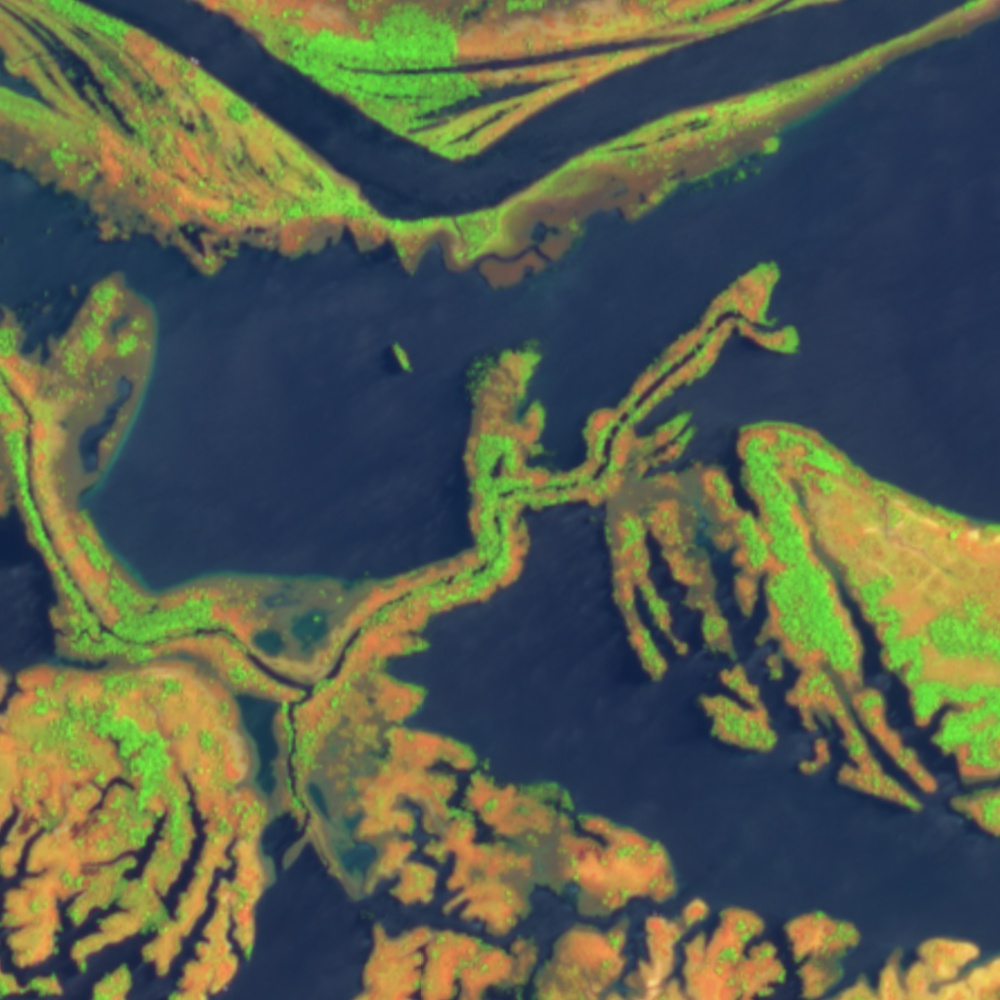legal: (1, 536, 534, 1000), (610, 263, 996, 834), (1, 81, 823, 265), (530, 778, 1000, 1000), (1, 3, 828, 82), (1, 266, 159, 658), (409, 336, 610, 553)
